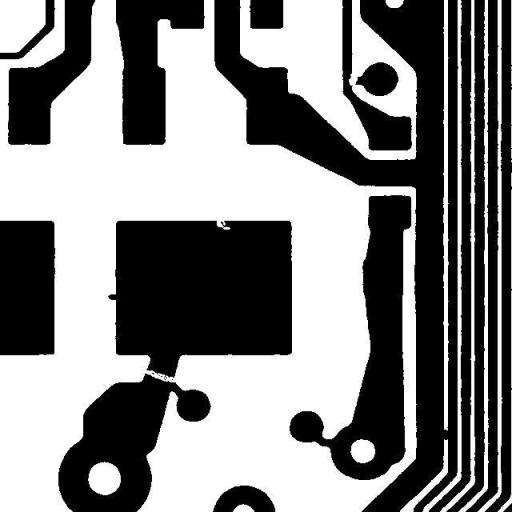mousebite: (208, 202, 238, 237)
open: (134, 362, 185, 390), (341, 66, 365, 92)
short: (430, 422, 460, 447)
spur: (100, 286, 127, 308)
